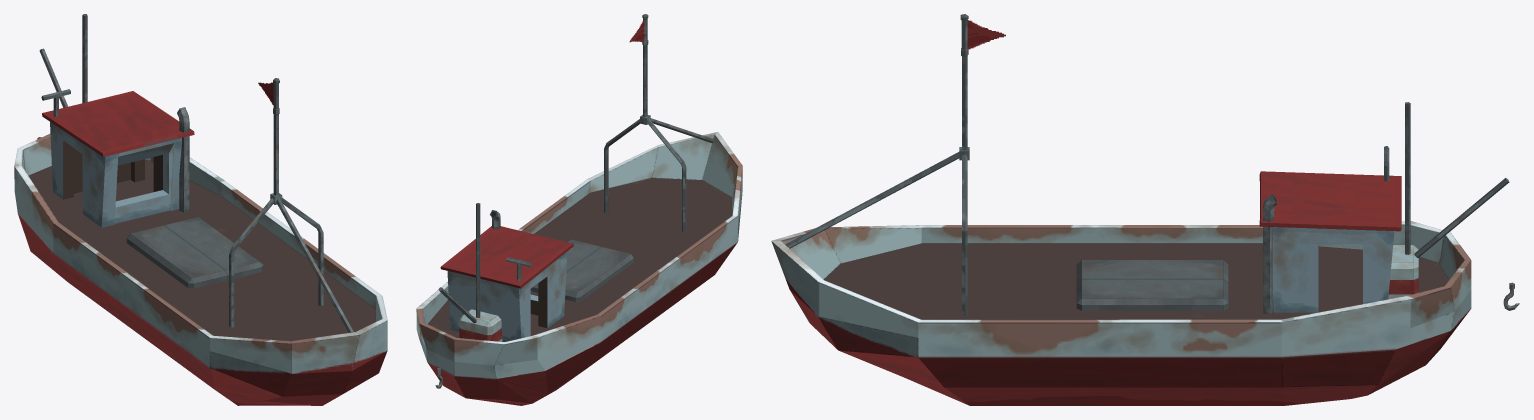
Rendered from FishingBoat.fbx.
The picture shows the model from 3 angles, left to right: view 1: azimuth 30°, elevation 25°; view 2: azimuth 150°, elevation 25°; view 3: azimuth 270°, elevation 25°; orthographic projection. The views are drawn at different scales.
Parts seen in each view (by area): view 1: Hull, Cabin, PitCover, Rigging, Rigging_1; view 2: Hull, Cabin, PitCover, Rigging, Rigging_1; view 3: Hull, Cabin, PitCover, Rigging, Rigging_1.
Boxes of the visible parts, <box> form: Hull: <box>14,134,387,405</box>; Cabin: <box>42,91,194,227</box>; PitCover: <box>126,217,263,288</box>; Rigging: <box>229,78,353,332</box>; Rigging_1: <box>39,14,87,107</box>; Hull: <box>416,132,742,405</box>; Cabin: <box>440,210,573,341</box>; PitCover: <box>530,239,633,301</box>; Rigging: <box>604,14,714,232</box>; Rigging_1: <box>438,203,502,341</box>; Hull: <box>771,221,1471,405</box>; Cabin: <box>1259,171,1401,313</box>; PitCover: <box>1076,260,1228,310</box>; Rigging: <box>785,14,969,315</box>; Rigging_1: <box>1388,102,1509,299</box>.
Size of the model in its own units: 1424 by 2588 by 4624.
8 materials, 8 textured.
